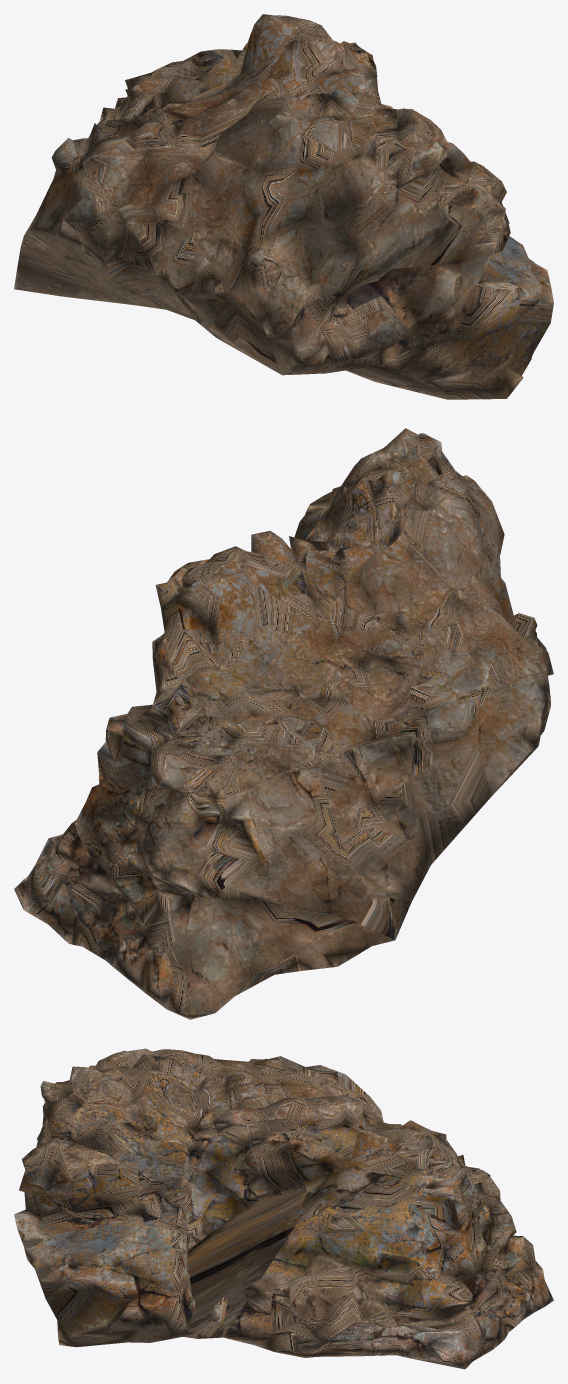
Rendered from model-ultra.gltf.
3 views of the same model, one above another, from view 1: azimuth 30°, elevation 25°; view 2: azimuth 150°, elevation 25°; view 3: azimuth 270°, elevation 25° (orthographic). The views are drawn at different scales.
Parts seen in each view (by area): view 1: boulder_01-0; view 2: boulder_01-0; view 3: boulder_01-0.
Part boxes in pixels (x1,y1,x2,y2): boulder_01-0: (14,14,553,399); boulder_01-0: (14,428,553,1019); boulder_01-0: (14,1048,553,1369).
Size of the model in its own units: 1.26 by 0.9972 by 1.82.
Materials: 1 (1 with a texture image).
